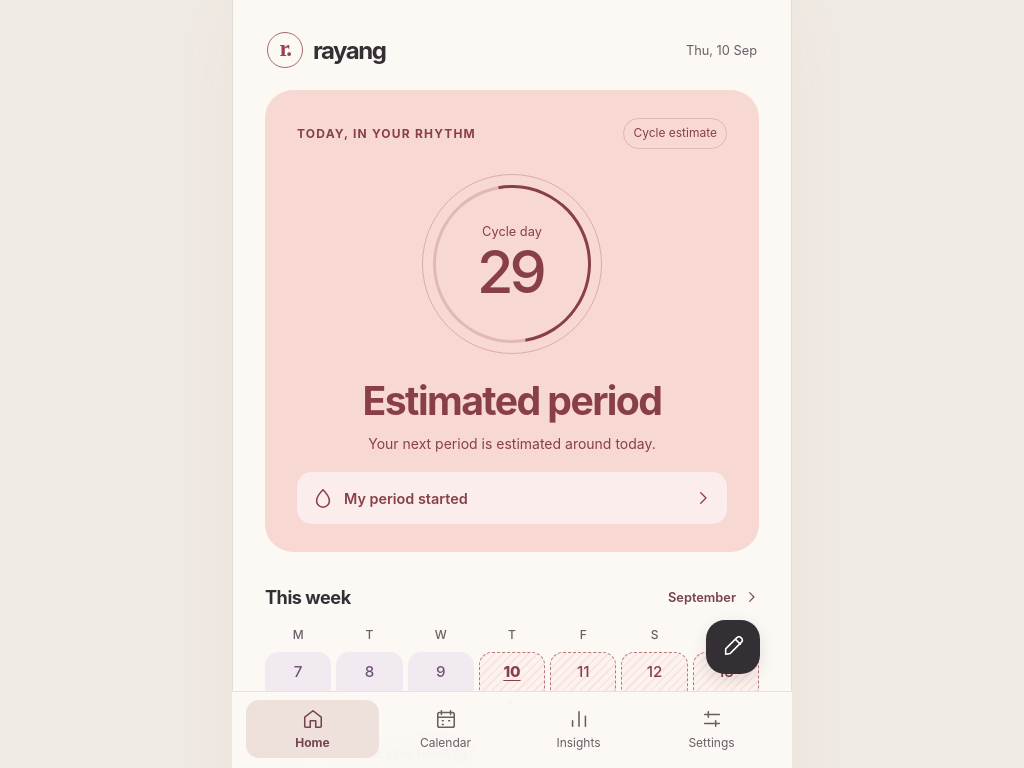
Test: core interaction flows › starts a period, persists it, and updates the contextual action
The width and height of the screenshot is (1024, 768).
Expected: the button named "Open today’s diary" is shown, [706, 620, 760, 674]
Click the button "My period started": x=406, y=498 [297, 472, 727, 524]
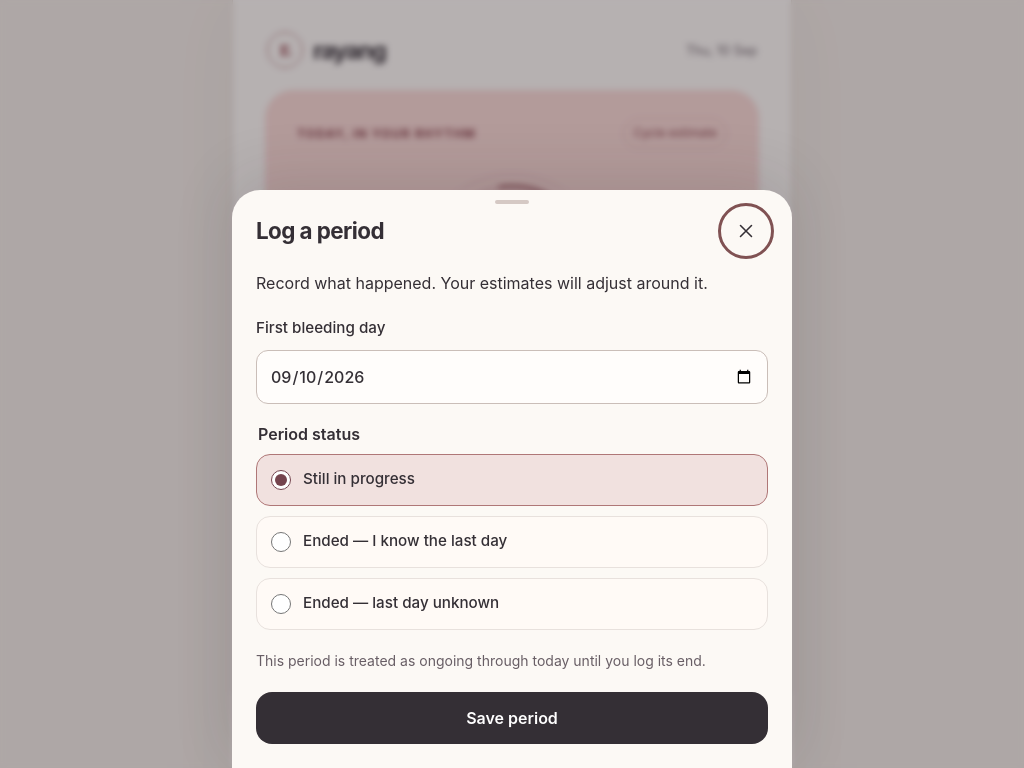
Click the button "Save period": x=512, y=718 [256, 692, 768, 744]
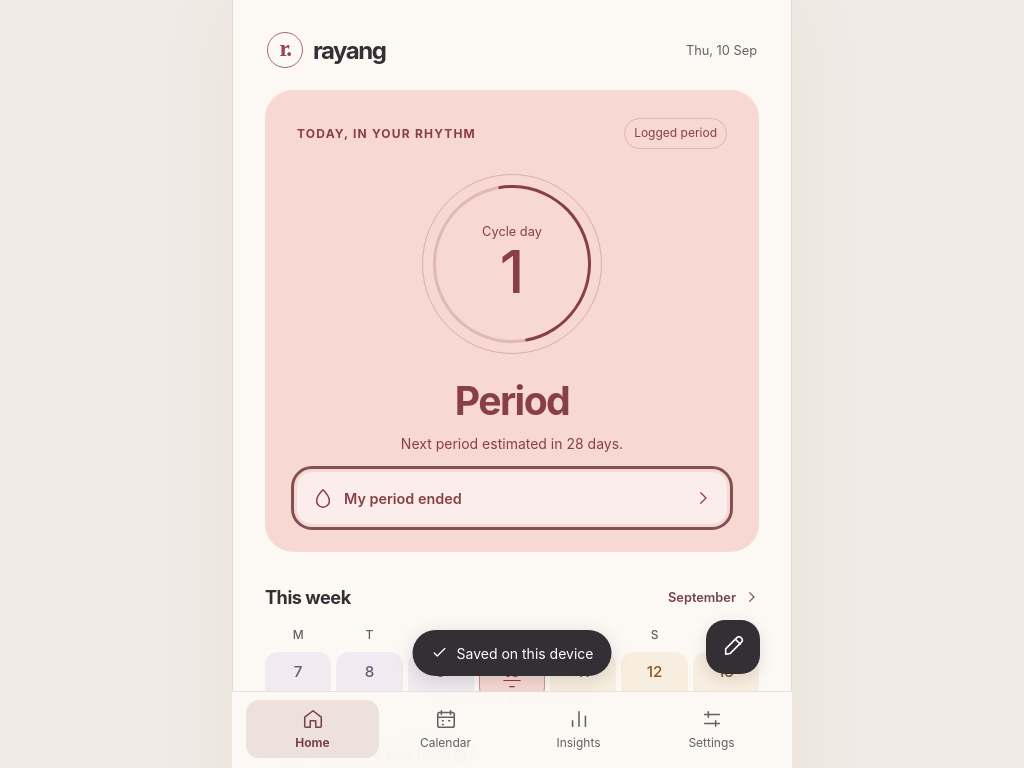
Expected: the button "My period ended" is shown, [297, 472, 727, 524]
